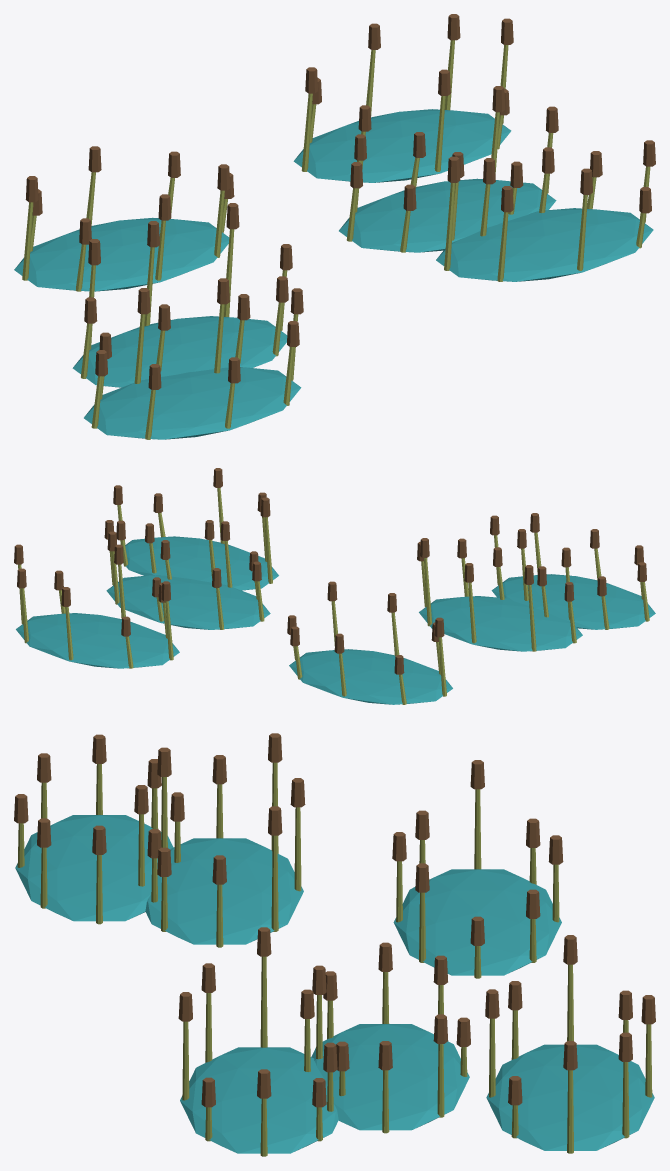
File: FEATURE_MARSH_v01.fbx
The picture shows the model from 3 angles, top to bottom: view 1: azimuth 30°, elevation 25°; view 2: azimuth 150°, elevation 25°; view 3: azimuth 270°, elevation 25°; orthographic projection. The views are drawn at different scales.
Parts seen in each view (by area): view 1: Marsh_pool.009, Marsh_pool.011, Marsh_pool.010, Marsh_pool.006, Marsh_pool.008, Marsh_pool.007; view 2: Marsh_pool.006, Marsh_pool.010, Marsh_pool.007, Marsh_pool.008, Marsh_pool.011, Marsh_pool.009; view 3: Marsh_pool.006, Marsh_pool.010, Marsh_pool.009, Marsh_pool.007, Marsh_pool.008, Marsh_pool.011, Reed.057, Reed.076.
Boxes of the visible parts, box(x1,y1,x2,y2) form: Marsh_pool.009: box(436, 208, 653, 281); Marsh_pool.011: box(84, 367, 301, 439); Marsh_pool.010: box(14, 217, 229, 291); Marsh_pool.006: box(293, 109, 511, 182); Marsh_pool.008: box(339, 178, 556, 252); Marsh_pool.007: box(72, 316, 287, 387); Marsh_pool.006: box(16, 613, 179, 668); Marsh_pool.010: box(289, 649, 452, 704); Marsh_pool.007: box(419, 596, 582, 651); Marsh_pool.008: box(106, 575, 270, 629); Marsh_pool.011: box(491, 574, 655, 629); Marsh_pool.009: box(123, 536, 278, 590); Marsh_pool.006: box(486, 1044, 654, 1150); Marsh_pool.010: box(393, 869, 561, 975); Marsh_pool.009: box(180, 1047, 338, 1153); Marsh_pool.007: box(145, 838, 303, 944); Marsh_pool.008: box(311, 1024, 469, 1130); Marsh_pool.011: box(15, 815, 173, 921); Reed.057: box(271, 835, 278, 931); Reed.076: box(260, 956, 267, 1047).
Size of the model in its own units: 137 by 24.64 by 107.
